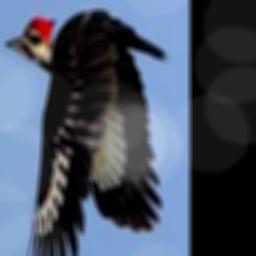Woodpecker: (6, 8, 172, 256)
